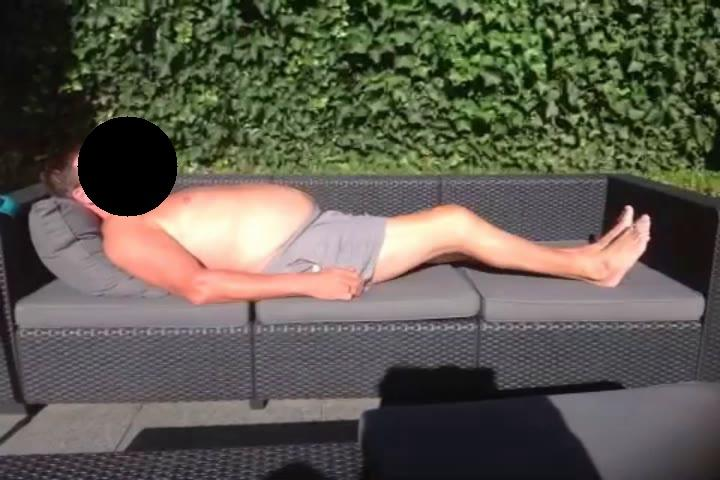lower_body: (300, 201, 653, 293)
